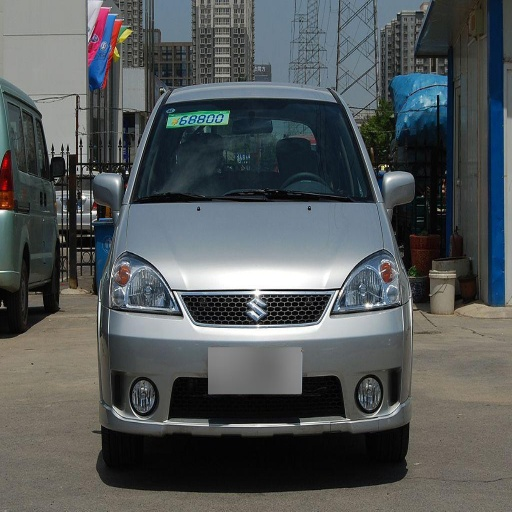front_bumper: (101, 289, 408, 435)
front_right_light: (103, 253, 180, 315)
hood: (122, 203, 383, 290)
